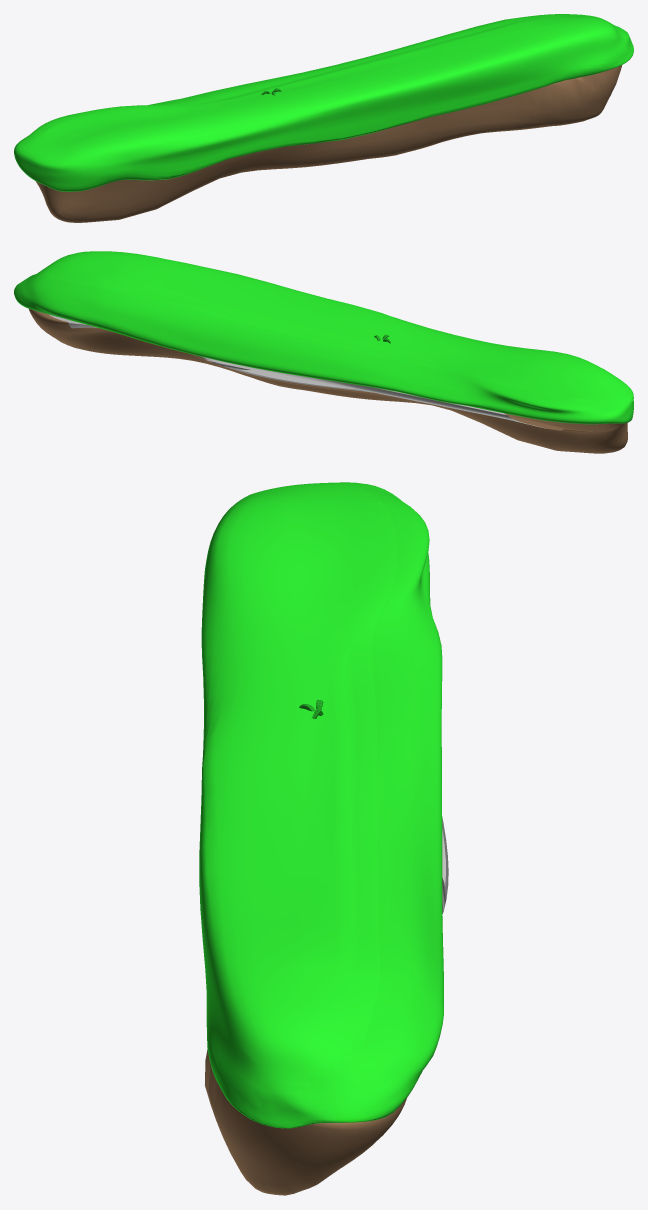
Rendered from PlatformormBIG.fbx.
3 views of the same model, one above another, from view 1: azimuth 30°, elevation 25°; view 2: azimuth 150°, elevation 25°; view 3: azimuth 270°, elevation 25° (orthographic). The views are drawn at different scales.
Parts seen in each view (by area): view 1: cimgovde, Toprak; view 2: cimgovde, Toprak; view 3: cimgovde, Toprak.
Part boxes in pixels (x1=…): cimgovde: x1=14, y1=14, x2=633, y2=191; Toprak: x1=36, y1=65, x2=621, y2=222; cimgovde: x1=14, y1=251, x2=633, y2=424; Toprak: x1=29, y1=309, x2=627, y2=453; cimgovde: x1=199, y1=482, x2=443, y2=1128; Toprak: x1=205, y1=816, x2=448, y2=1195.
Bounding box in the file's own units: 708 × 108 × 126.
Materials: 3 (3 with a texture image).
